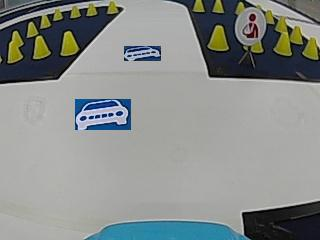cone: (208, 24, 229, 51), (6, 32, 23, 61), (60, 31, 78, 56), (33, 35, 50, 59), (275, 31, 292, 55), (302, 37, 318, 59), (290, 25, 302, 43), (105, 1, 118, 14), (27, 21, 38, 36), (85, 3, 97, 16), (40, 14, 51, 28), (192, 0, 204, 12), (212, 1, 224, 13), (69, 5, 80, 18), (265, 9, 274, 23), (53, 8, 63, 20)
patient: (236, 7, 265, 44)
